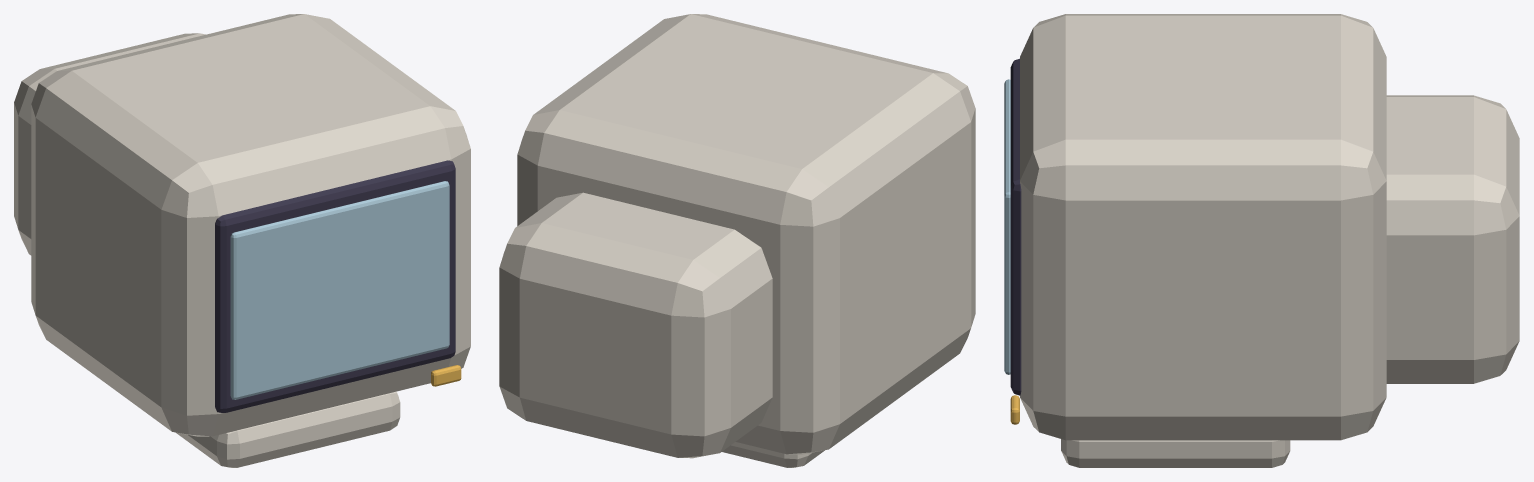
The model's file is crt_computer.glb.
3 renders of one model, left to right at view 1: azimuth 30°, elevation 25°; view 2: azimuth 150°, elevation 25°; view 3: azimuth 270°, elevation 25°, orthographic. The views are drawn at different scales.
Parts seen in each view (by area): view 1: crt_computer; view 2: crt_computer; view 3: crt_computer.
Part boxes in pixels (x1,y1,x2,y2): crt_computer: [14, 14, 470, 467]; crt_computer: [499, 14, 975, 467]; crt_computer: [1004, 14, 1519, 467].
Bounding box in the file's own units: 0.42 × 0.42 × 0.562.
